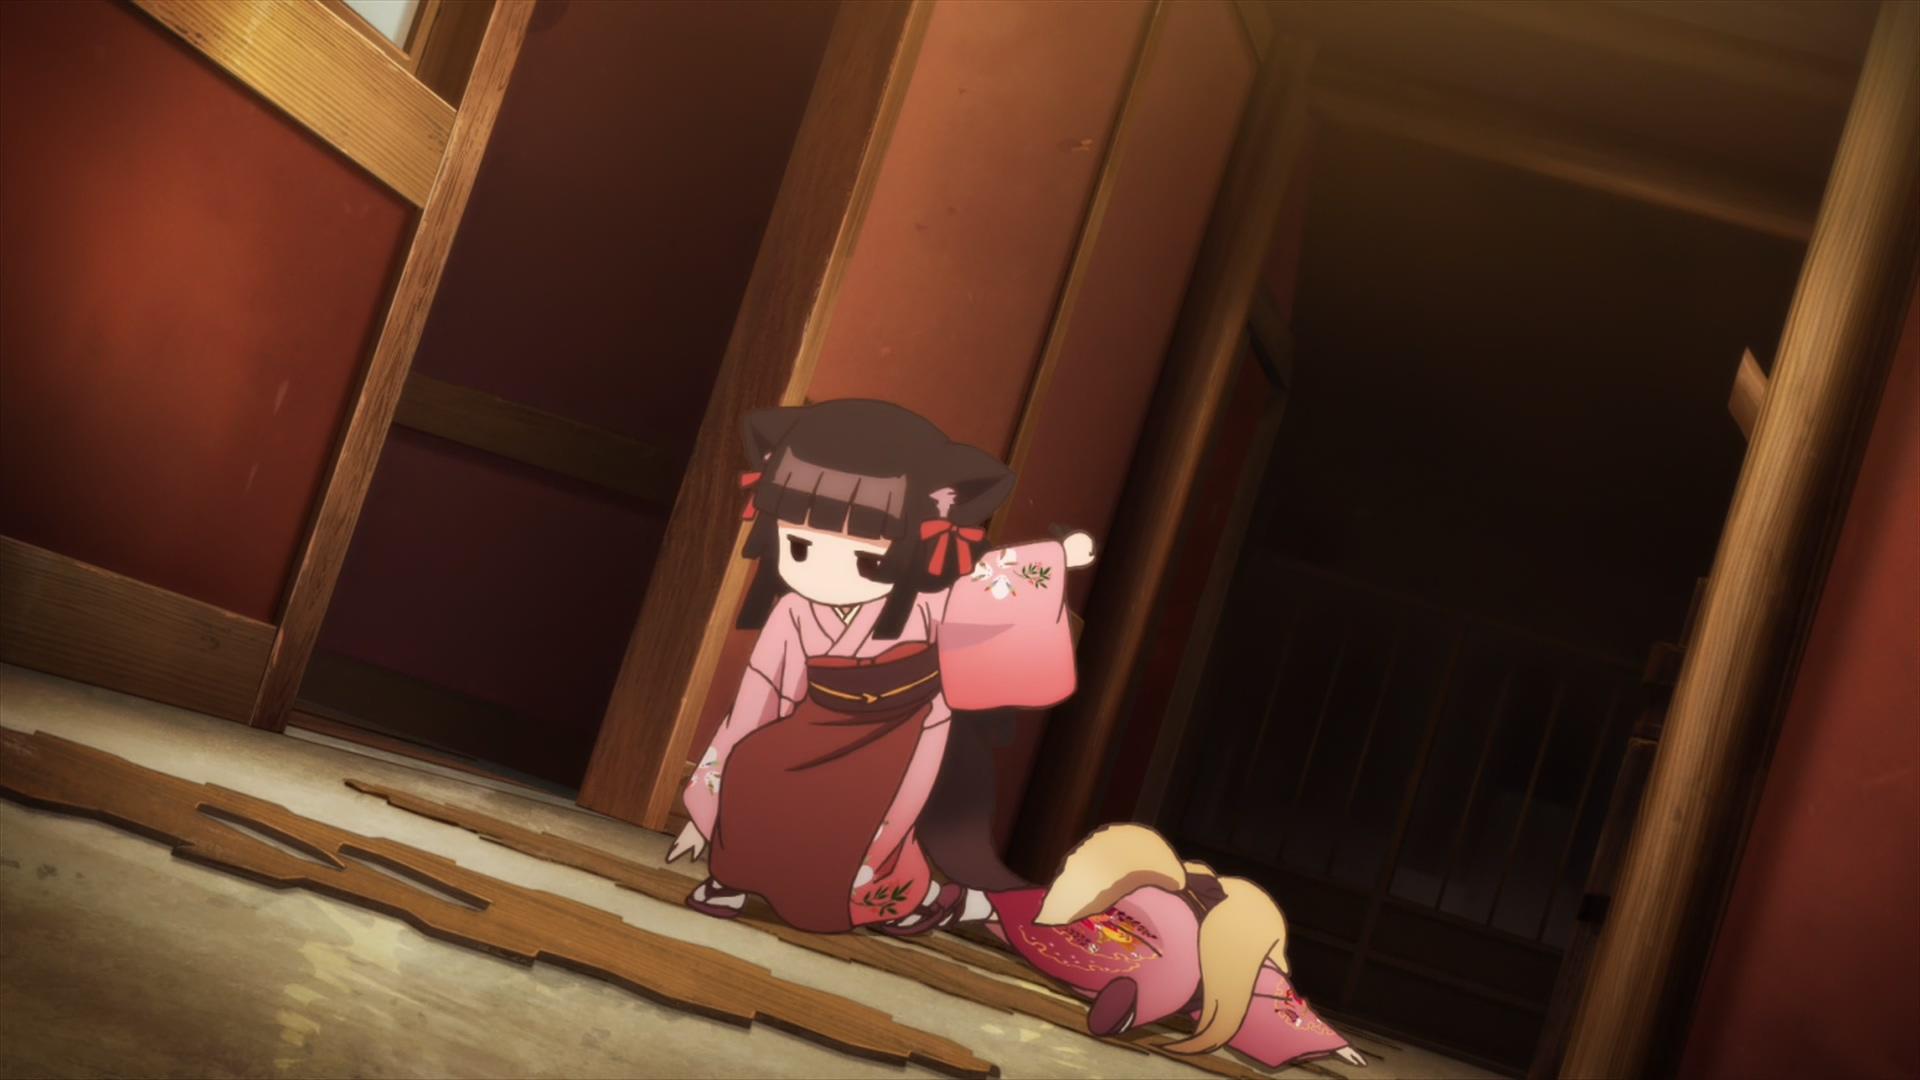柚: (945, 823, 1365, 1072)
樱: (669, 398, 1096, 942)
